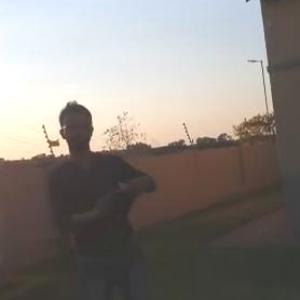follow: (43, 92, 165, 299)
